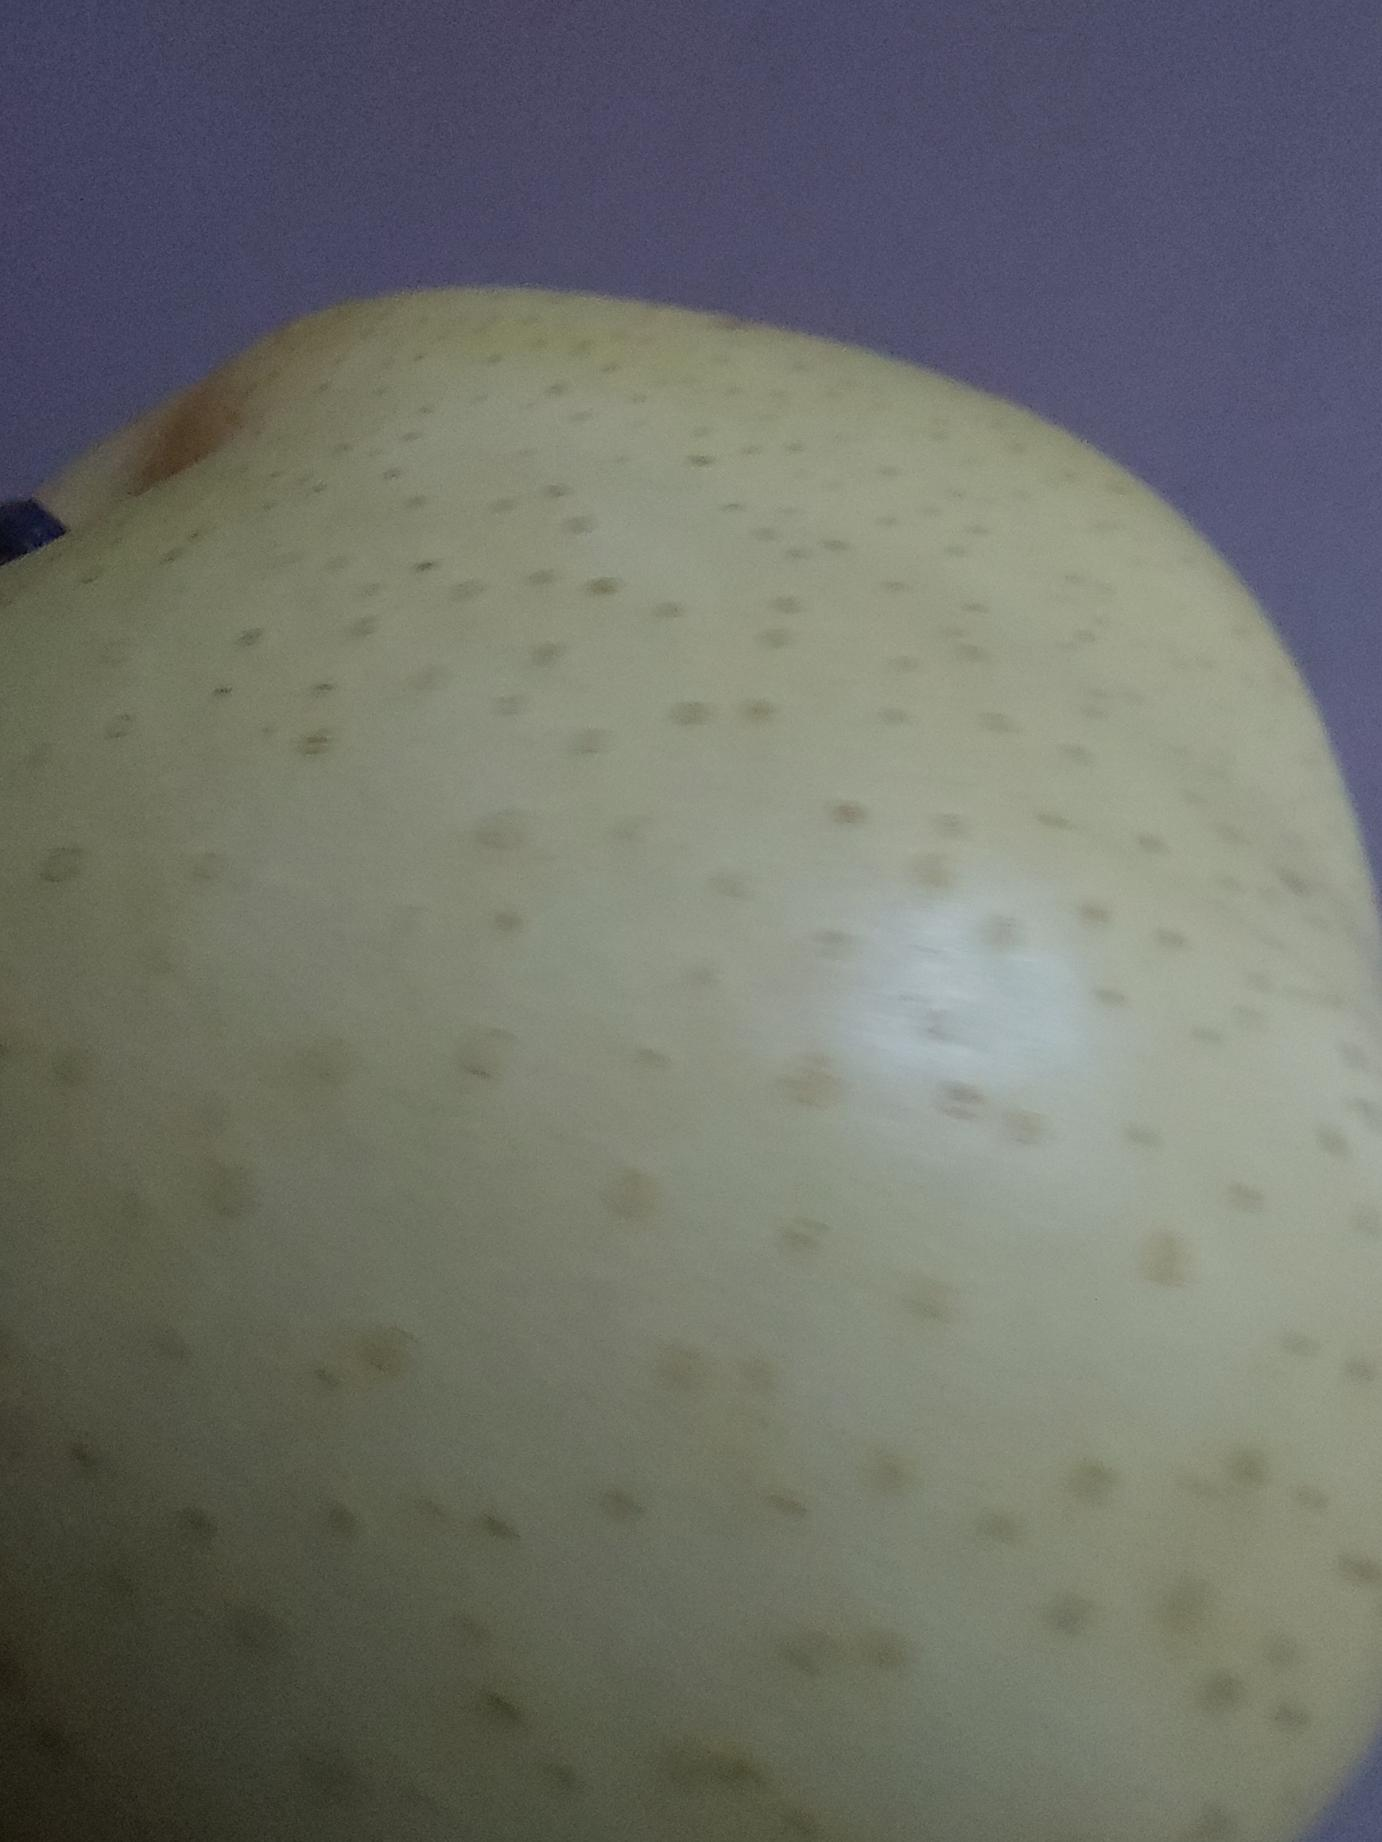Good Pear: (0, 203, 1382, 1842)
